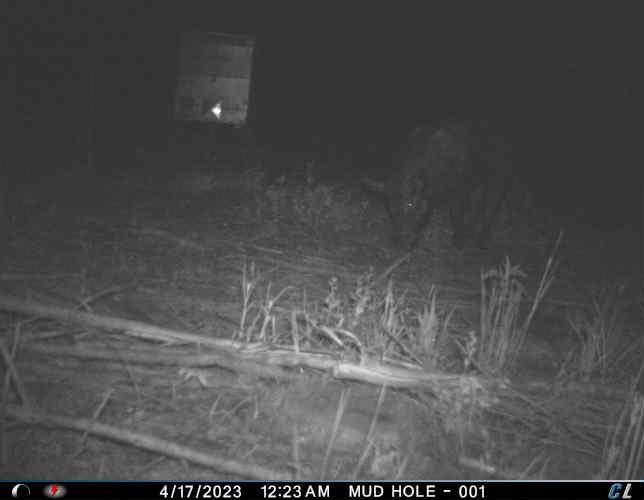Hog: (362, 111, 521, 249)
